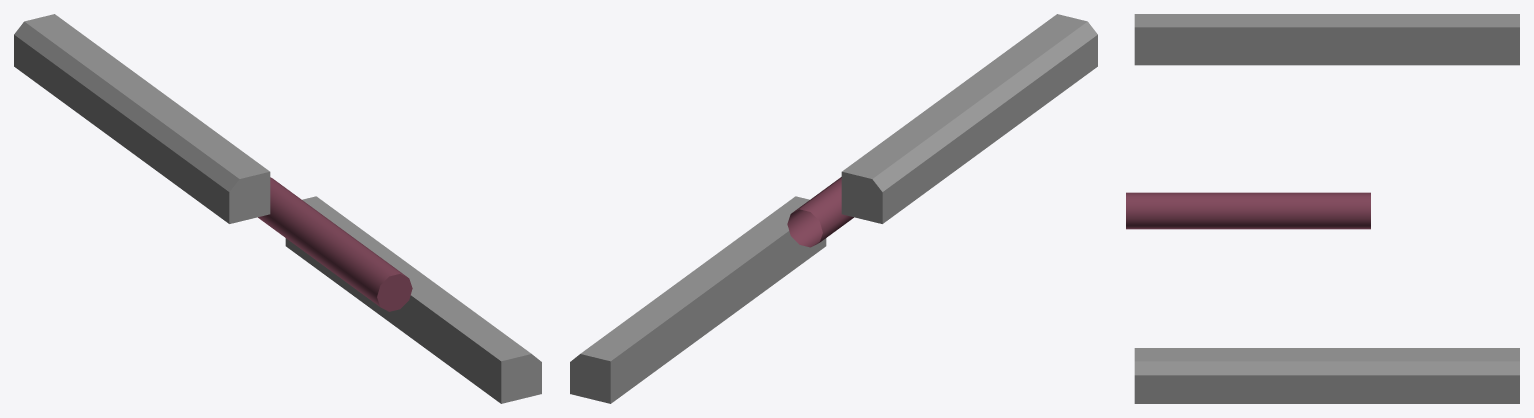
The model's file is mech 2 static lod1.FBX.
3 renders of one model, left to right at view 1: azimuth 30°, elevation 25°; view 2: azimuth 150°, elevation 25°; view 3: azimuth 270°, elevation 25°, orthographic. The views are drawn at different scales.
Parts seen in each view (by area): view 1: Object072; view 2: Object072; view 3: Object072.
Boxes of the visible parts, x1,y1,x2,y2 form: Object072: [14, 14, 541, 403]; Object072: [570, 14, 1097, 403]; Object072: [1126, 14, 1519, 403].
Bounding box in the file's own units: 2.46 × 2.17 × 3.
